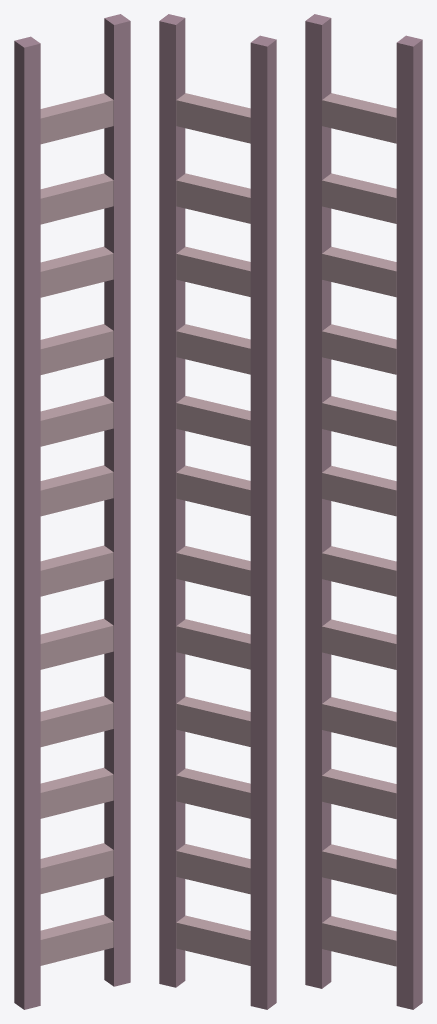
Rendered from SM_Ledder_001.fbx.
3 views of the same model, side by side, from view 1: azimuth 30°, elevation 25°; view 2: azimuth 150°, elevation 25°; view 3: azimuth 330°, elevation 25° (orthographic).
Parts seen in each view (by area): view 1: Sm_Ladder; view 2: Sm_Ladder; view 3: Sm_Ladder.
Part boxes in pixels (<box>): Sm_Ladder: <box>14,14,130,1009</box>; Sm_Ladder: <box>159,14,276,1009</box>; Sm_Ladder: <box>305,14,422,1009</box>.
Bounding box in the file's own units: 70.39 × 603 × 11.84.
